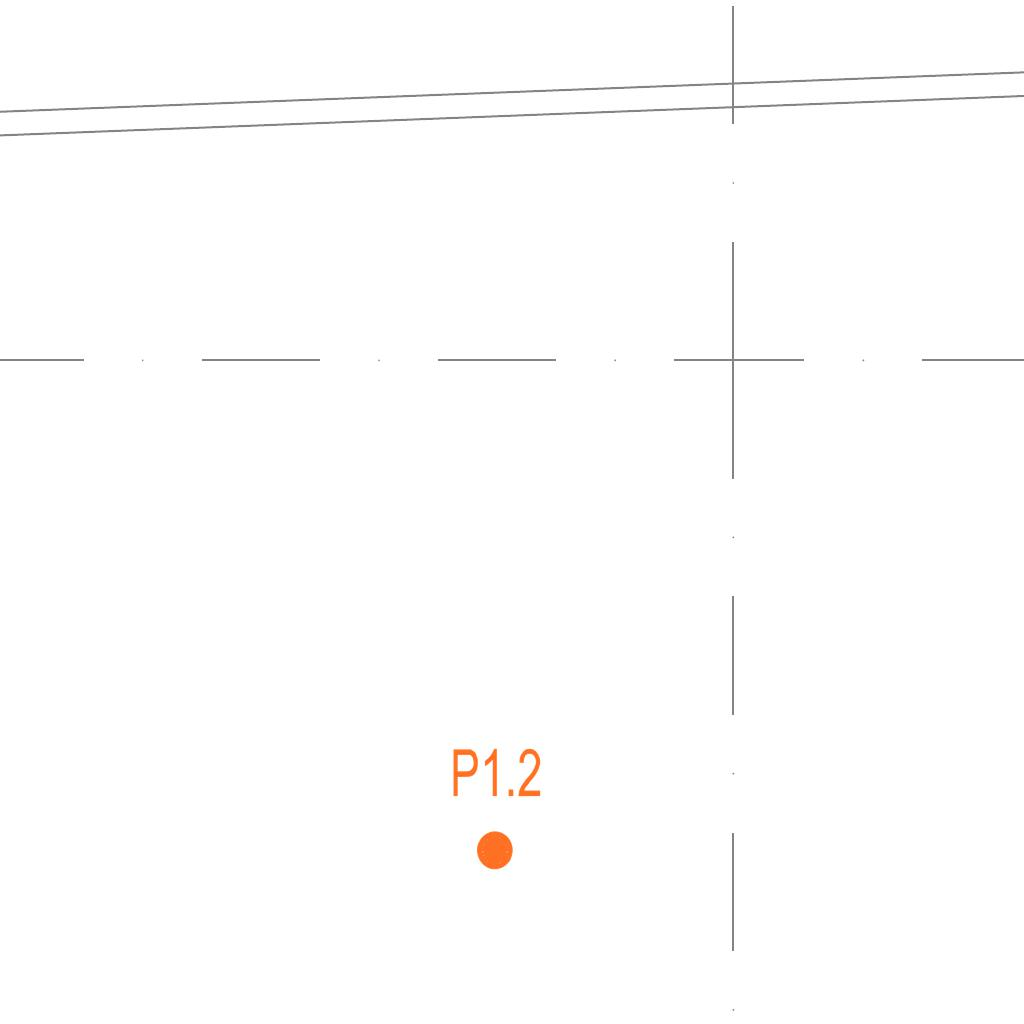Downlight_LED_Einbauleuchten_Flur: (450, 745, 543, 873)
